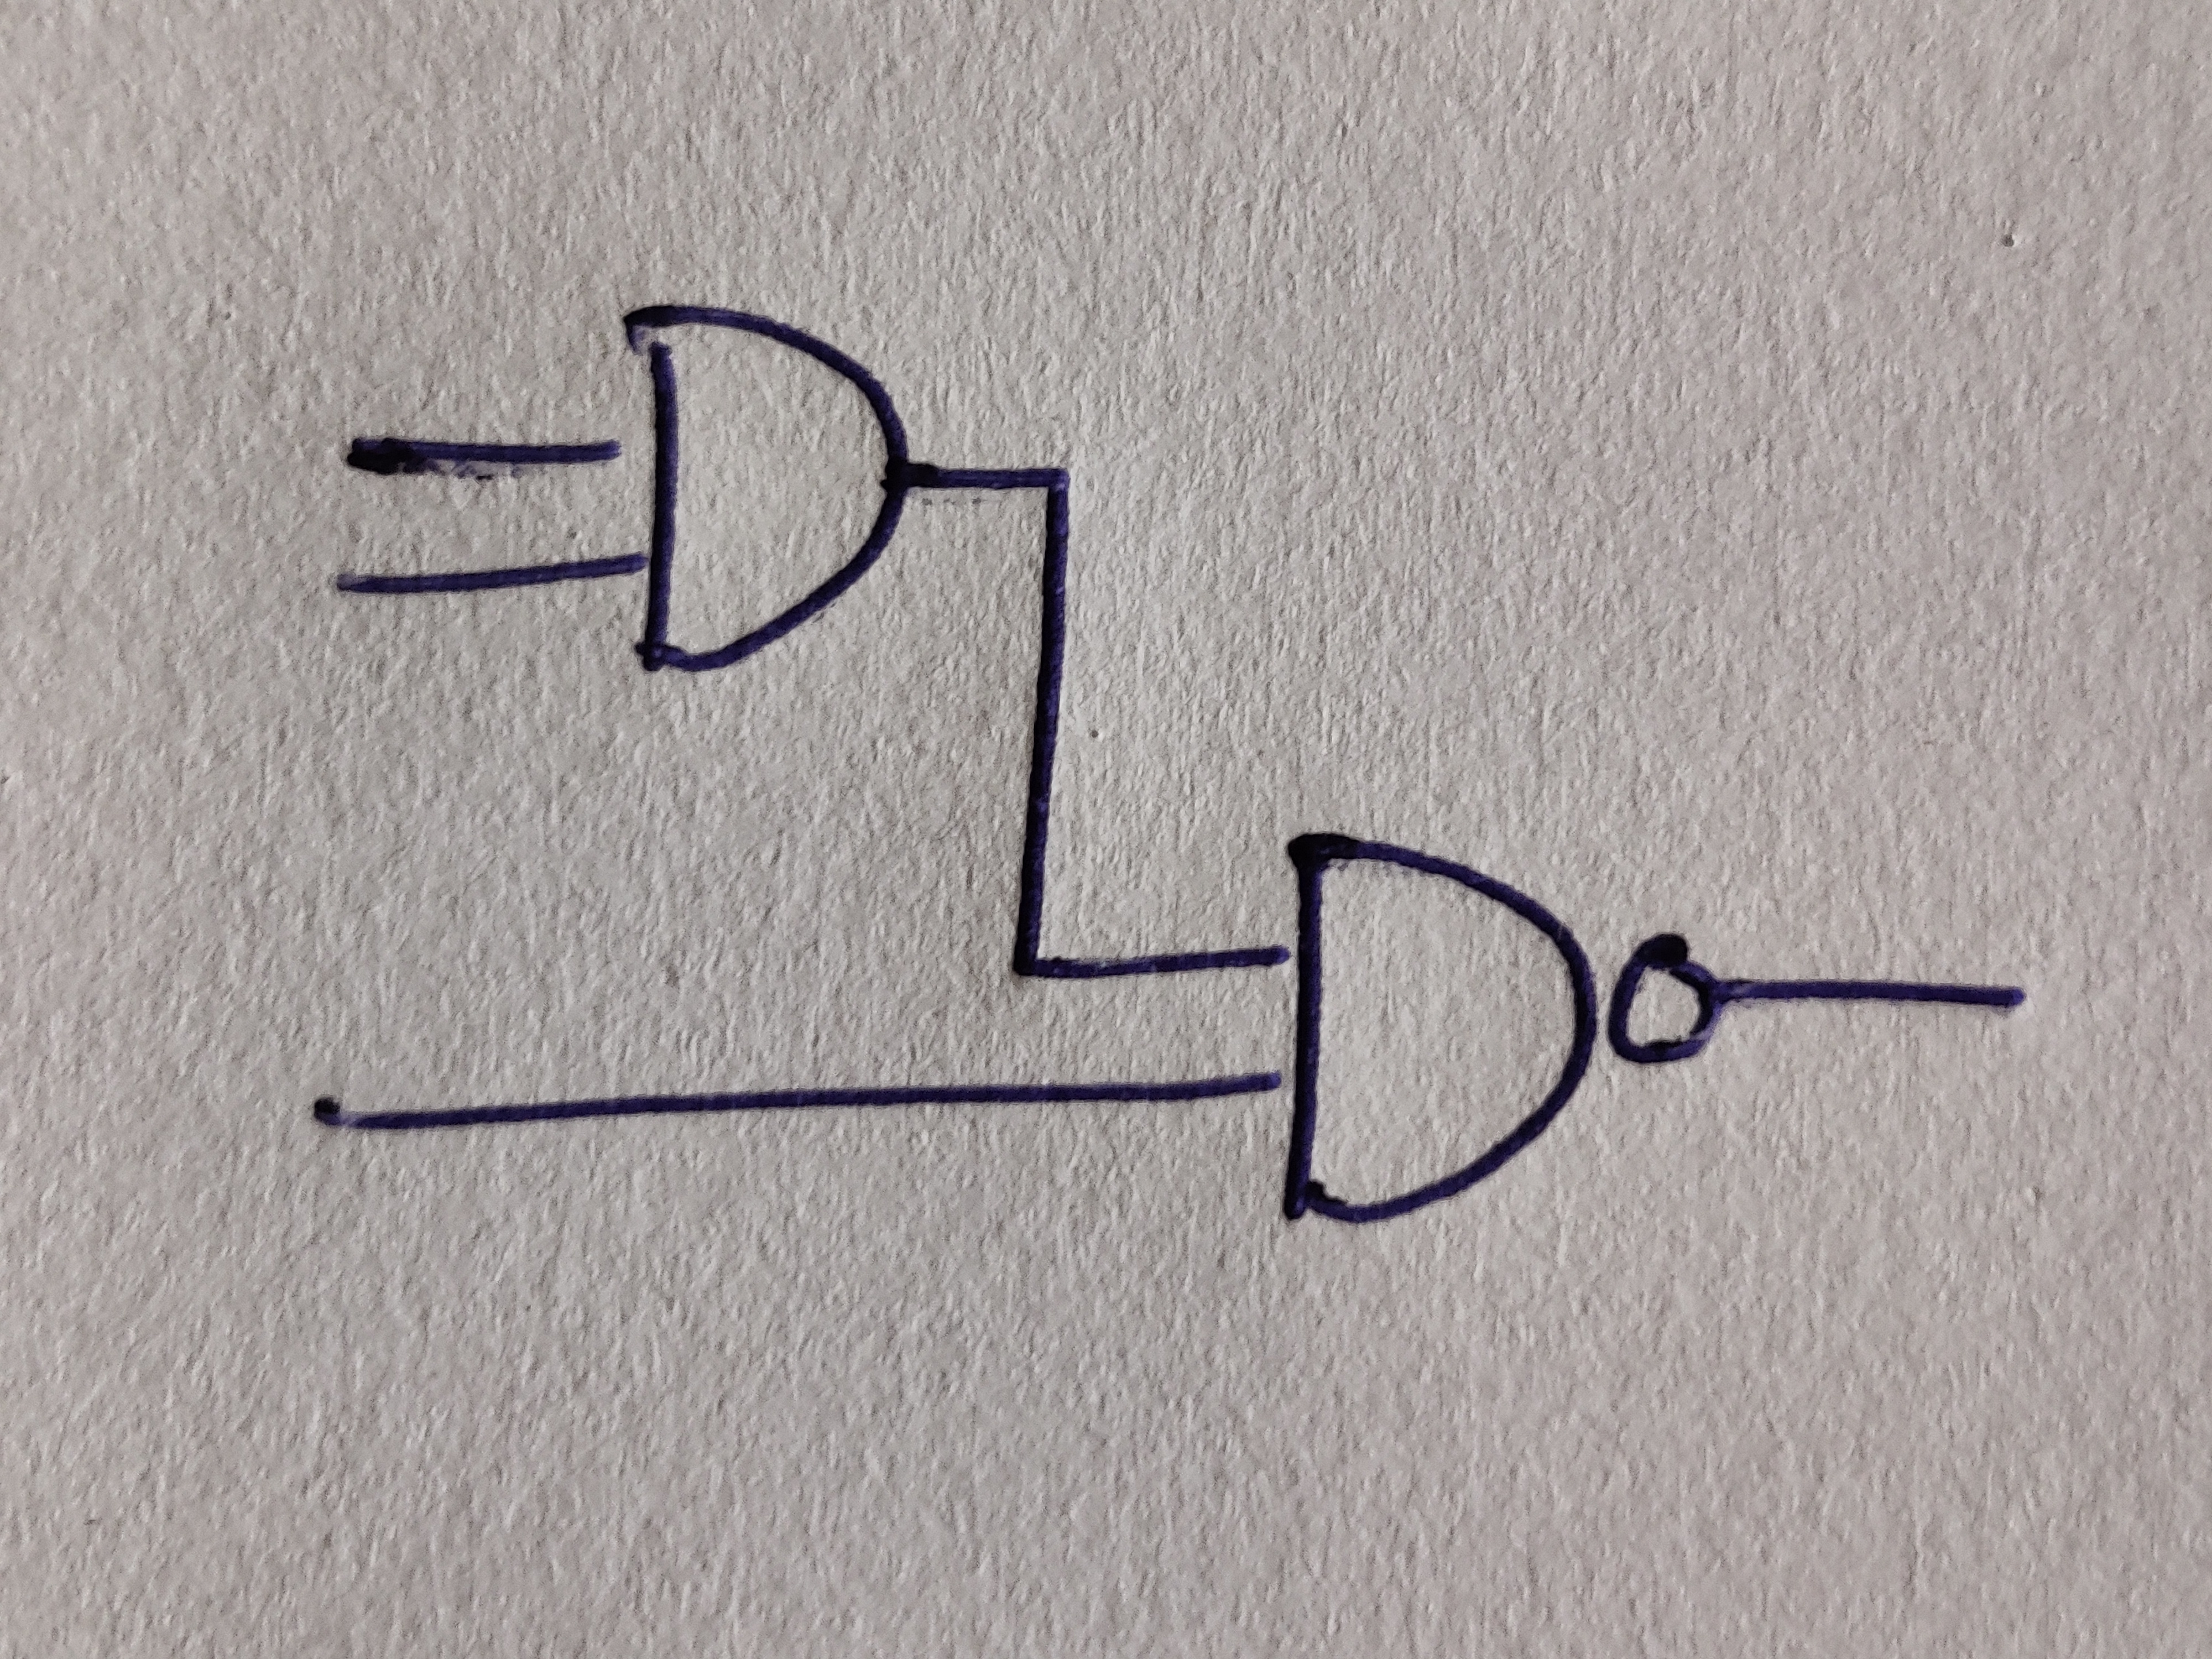and: (1282, 830, 1601, 1223), (624, 303, 911, 674)
not: (1609, 936, 1717, 1066)
